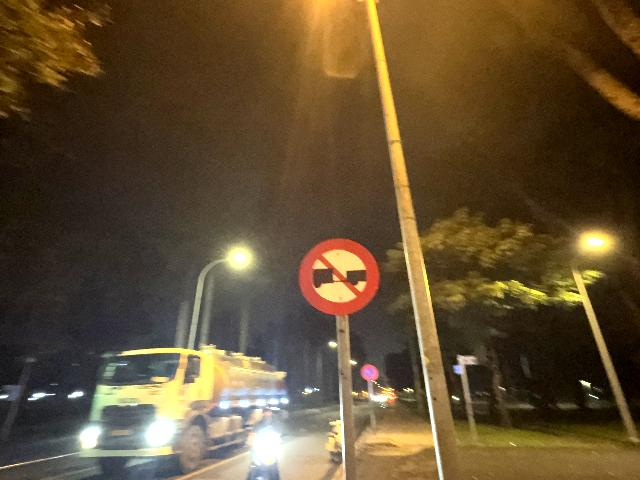cam-xe-somi-romooc: (298, 238, 380, 315)
